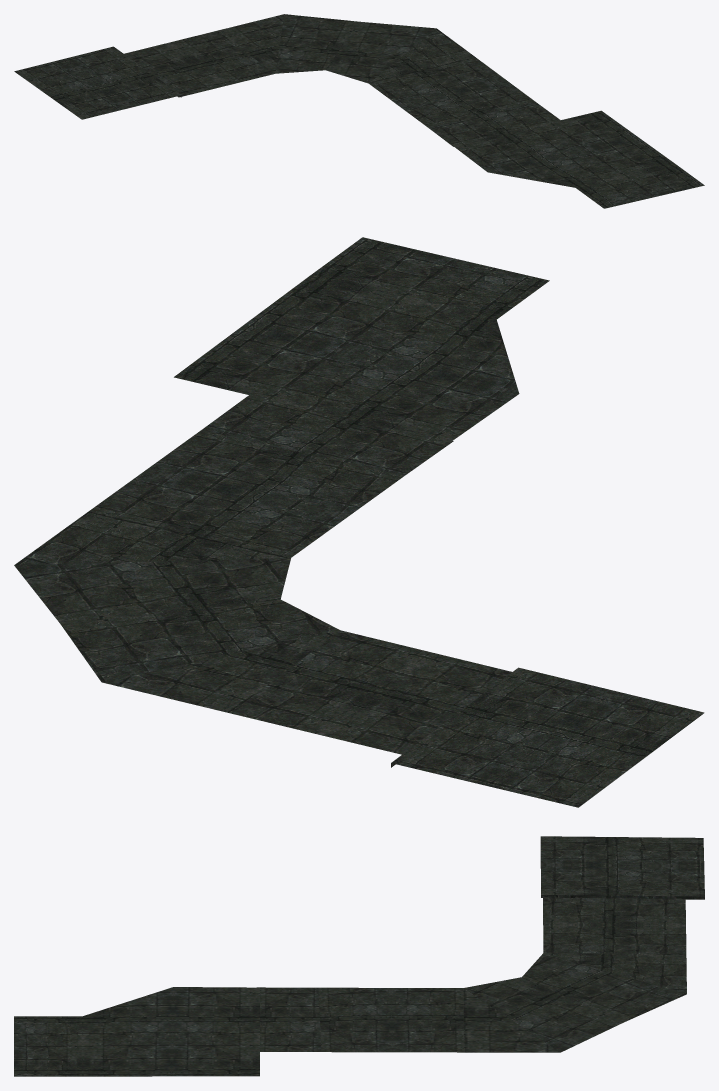
Rendered from zoudao.FBX.
3 renders of one model, top to bottom at view 1: azimuth 30°, elevation 25°; view 2: azimuth 150°, elevation 25°; view 3: azimuth 270°, elevation 25°, orthographic. The views are drawn at different scales.
Visible parts, largest first — view 1: qiaomian; view 2: qiaomian; view 3: qiaomian.
Boxes of the visible parts, x1=… form: qiaomian: x1=14, y1=14, x2=704, y2=208; qiaomian: x1=14, y1=237, x2=704, y2=807; qiaomian: x1=14, y1=836, x2=704, y2=1076.
Size of the model in its own units: 2112 by 20.05 by 2612.
